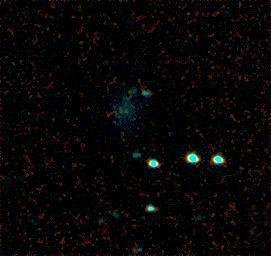star: (112, 87, 142, 117)
